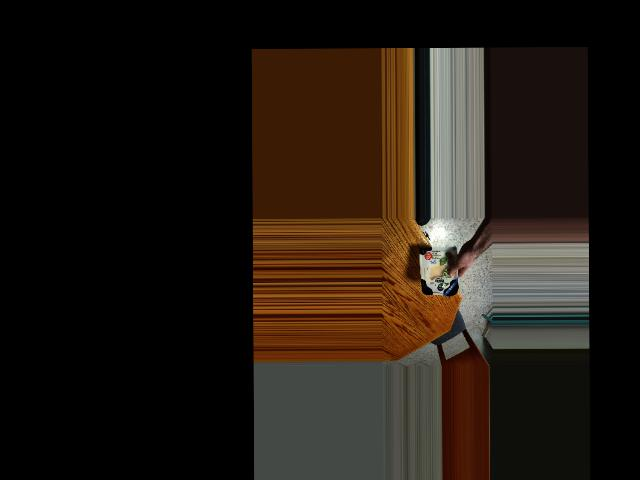cheese: (419, 235, 460, 307)
